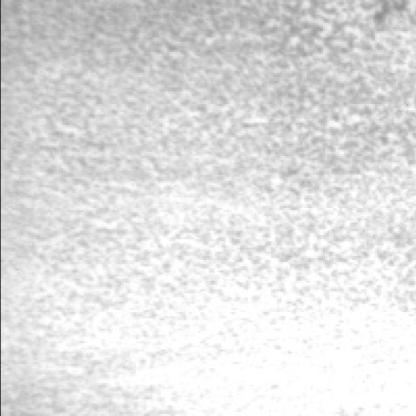pitted_surface: (19, 6, 414, 364)
